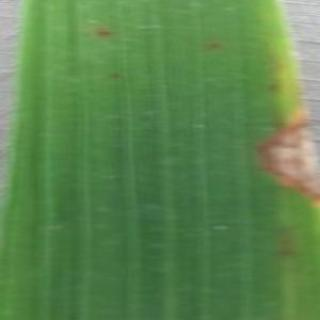Blast: (256, 98, 320, 205)
